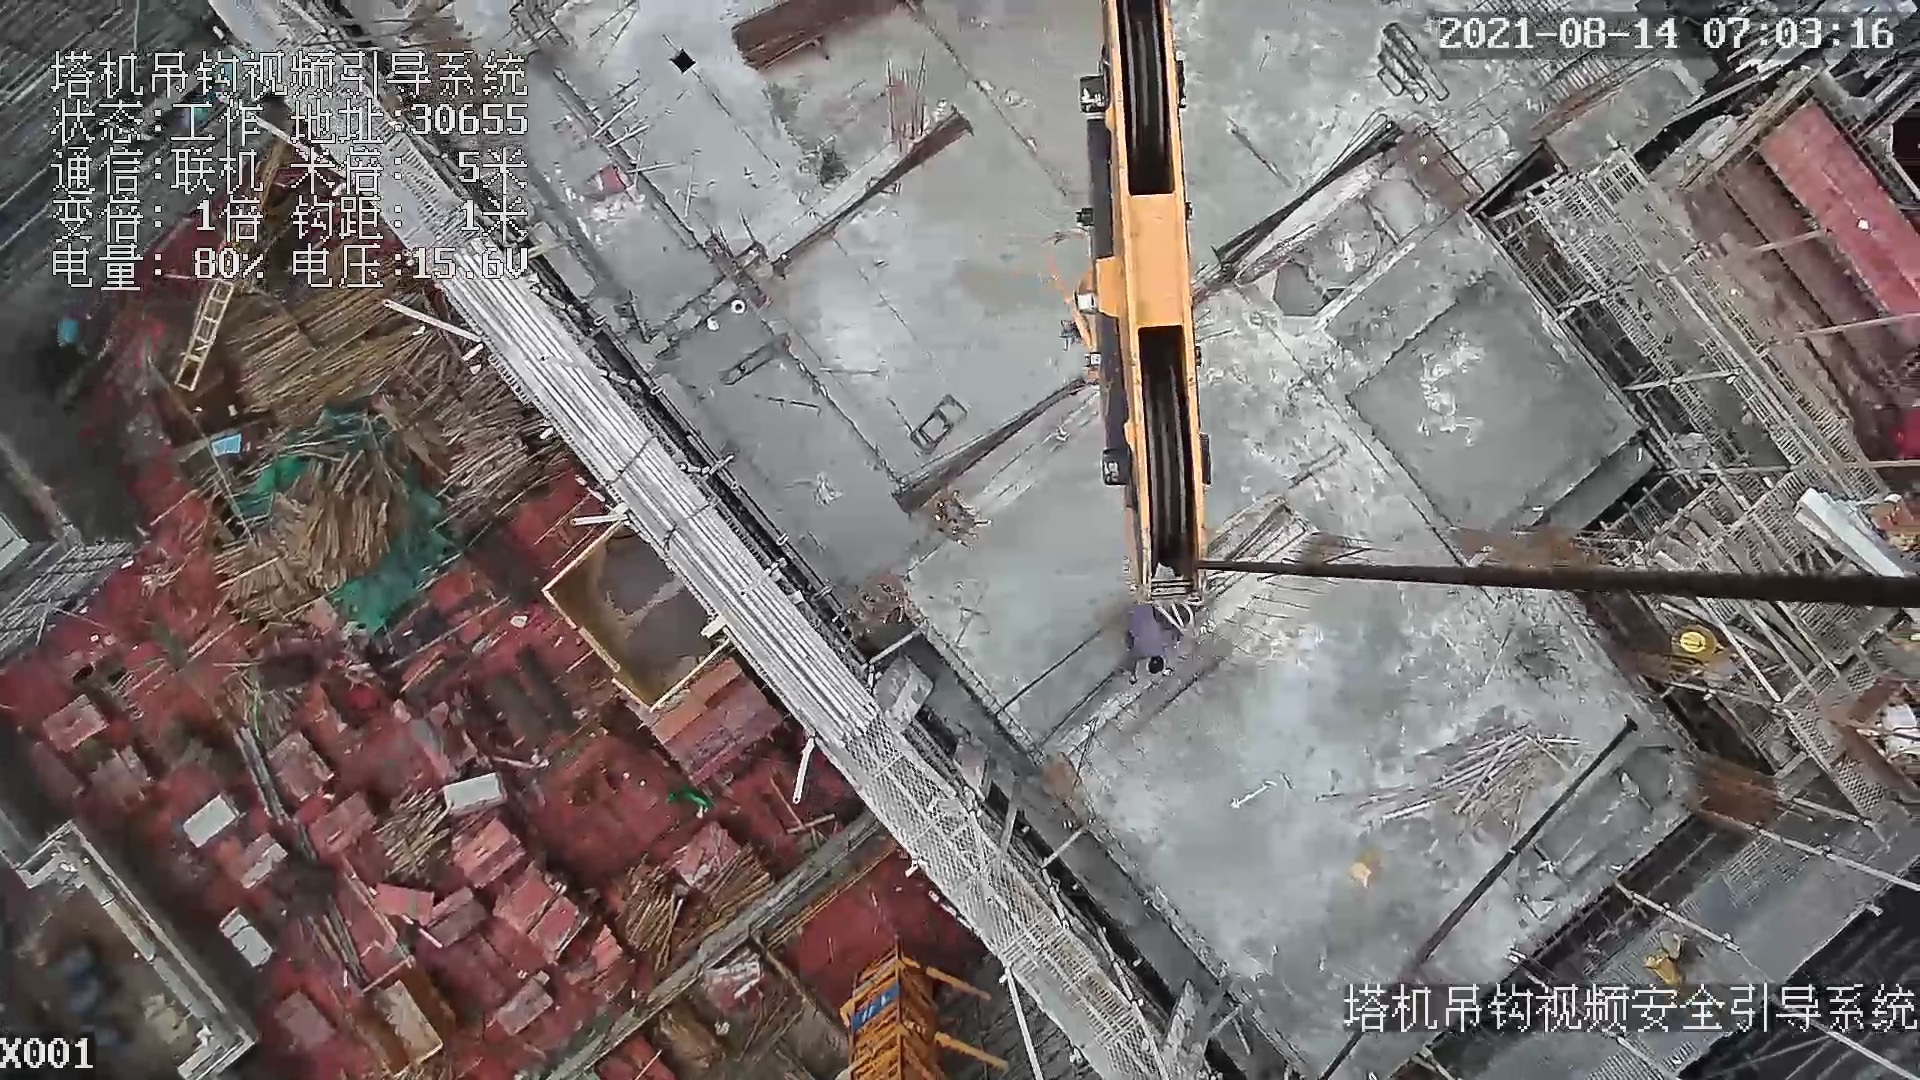hook: (1056, 1, 1214, 609)
person: (1123, 609, 1174, 683)
slogan: (839, 979, 904, 1034)
